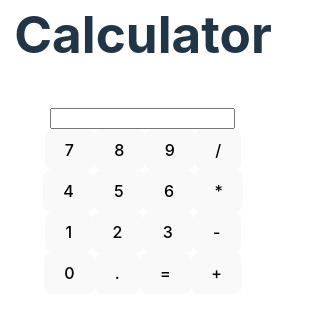
Test: Calculator › should show user input after clicking numbers and operations
Click the text "1": (69, 232) [45, 212, 92, 253]
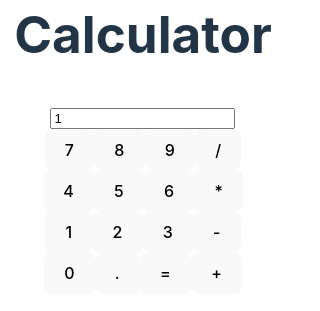
Click the text "+": (217, 273) [191, 253, 242, 294]
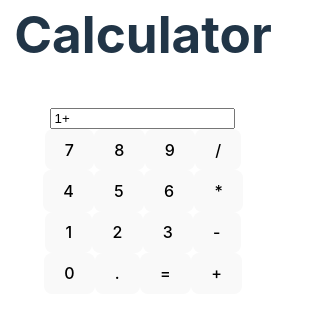
Click the text "2": (117, 232) [92, 212, 142, 253]
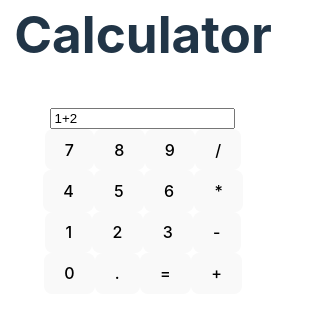
Now the field holds "1+2", box [50, 108, 236, 129]
